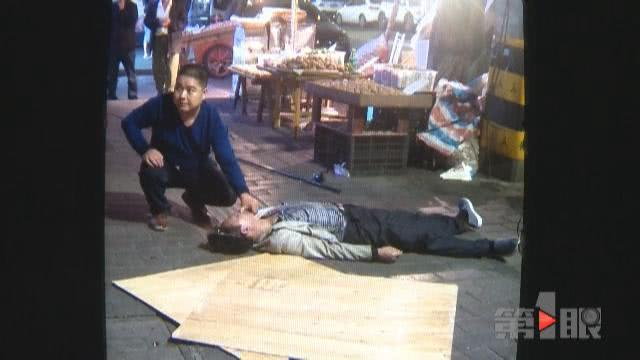fall: (197, 184, 521, 277)
